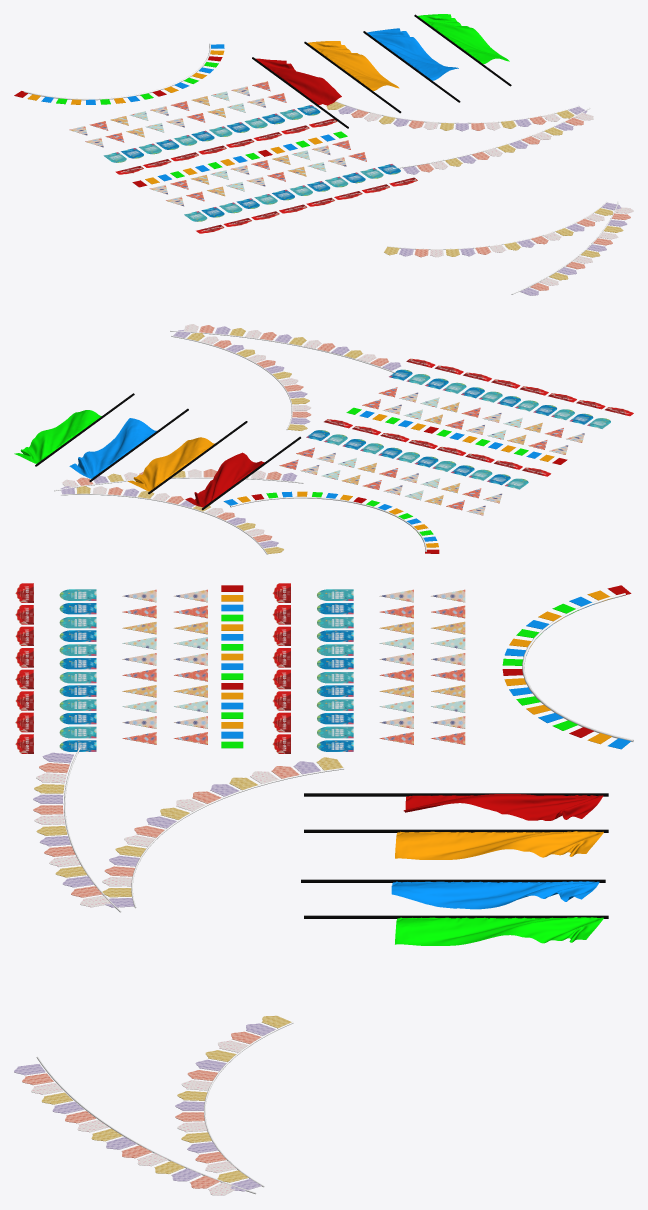
Rendered from LimeExp_7.fbx.
The picture shows the model from 3 angles, top to bottom: view 1: azimuth 30°, elevation 25°; view 2: azimuth 150°, elevation 25°; view 3: azimuth 270°, elevation 25°; orthographic projection. The views are drawn at different scales.
Visible parts, largest first — view 1: Obj3d66-406626-4-156, Obj3d66-406626-5-391, Obj3d66-406626-5-390, Obj3d66-406626-6-337, Arc001; view 2: Obj3d66-406626-4-156, Obj3d66-406626-5-390, Obj3d66-406626-5-391, Obj3d66-406626-6-337, Arc001, Arc003, Arc005; view 3: Obj3d66-406626-5-391, Obj3d66-406626-5-390, Obj3d66-406626-4-156, Obj3d66-406626-6-337, Obj3d66-406626-1-758, Obj3d66-406626-3-873, Obj3d66-406626-1-759, Obj3d66-406626-2-451.
Boxes of the visible parts, x1,y1,x2,y2 form: Obj3d66-406626-4-156: (367,28,458,80); Obj3d66-406626-5-391: (418,14,509,63); Obj3d66-406626-5-390: (308,41,399,90); Obj3d66-406626-6-337: (256,58,341,105); Arc001: (24,43,210,100); Obj3d66-406626-4-156: (69,418,156,478); Obj3d66-406626-5-390: (127,437,214,491); Obj3d66-406626-5-391: (14,410,101,463); Obj3d66-406626-6-337: (185,452,264,507); Arc001: (230,496,426,551); Arc003: (170,330,398,374); Arc005: (60,493,267,554); Obj3d66-406626-5-391: (395,917,603,945); Obj3d66-406626-5-390: (395,831,603,859); Obj3d66-406626-4-156: (391,881,599,909); Obj3d66-406626-6-337: (403,794,603,820); Obj3d66-406626-1-758: (304,829,608,832); Obj3d66-406626-3-873: (301,879,605,882); Obj3d66-406626-1-759: (304,915,608,918); Obj3d66-406626-2-451: (304,793,608,796).
Bounding box in the file's own units: 1061 × 293 × 721.
17 materials, 11 textured.
